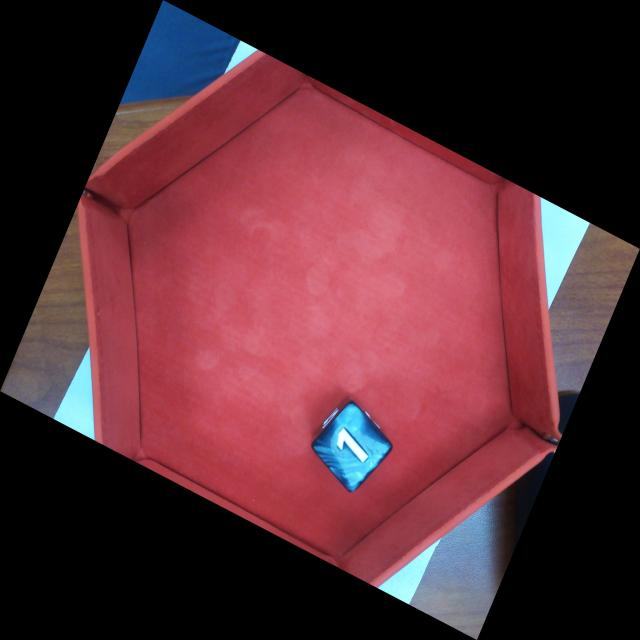dice: (308, 398, 396, 497)
